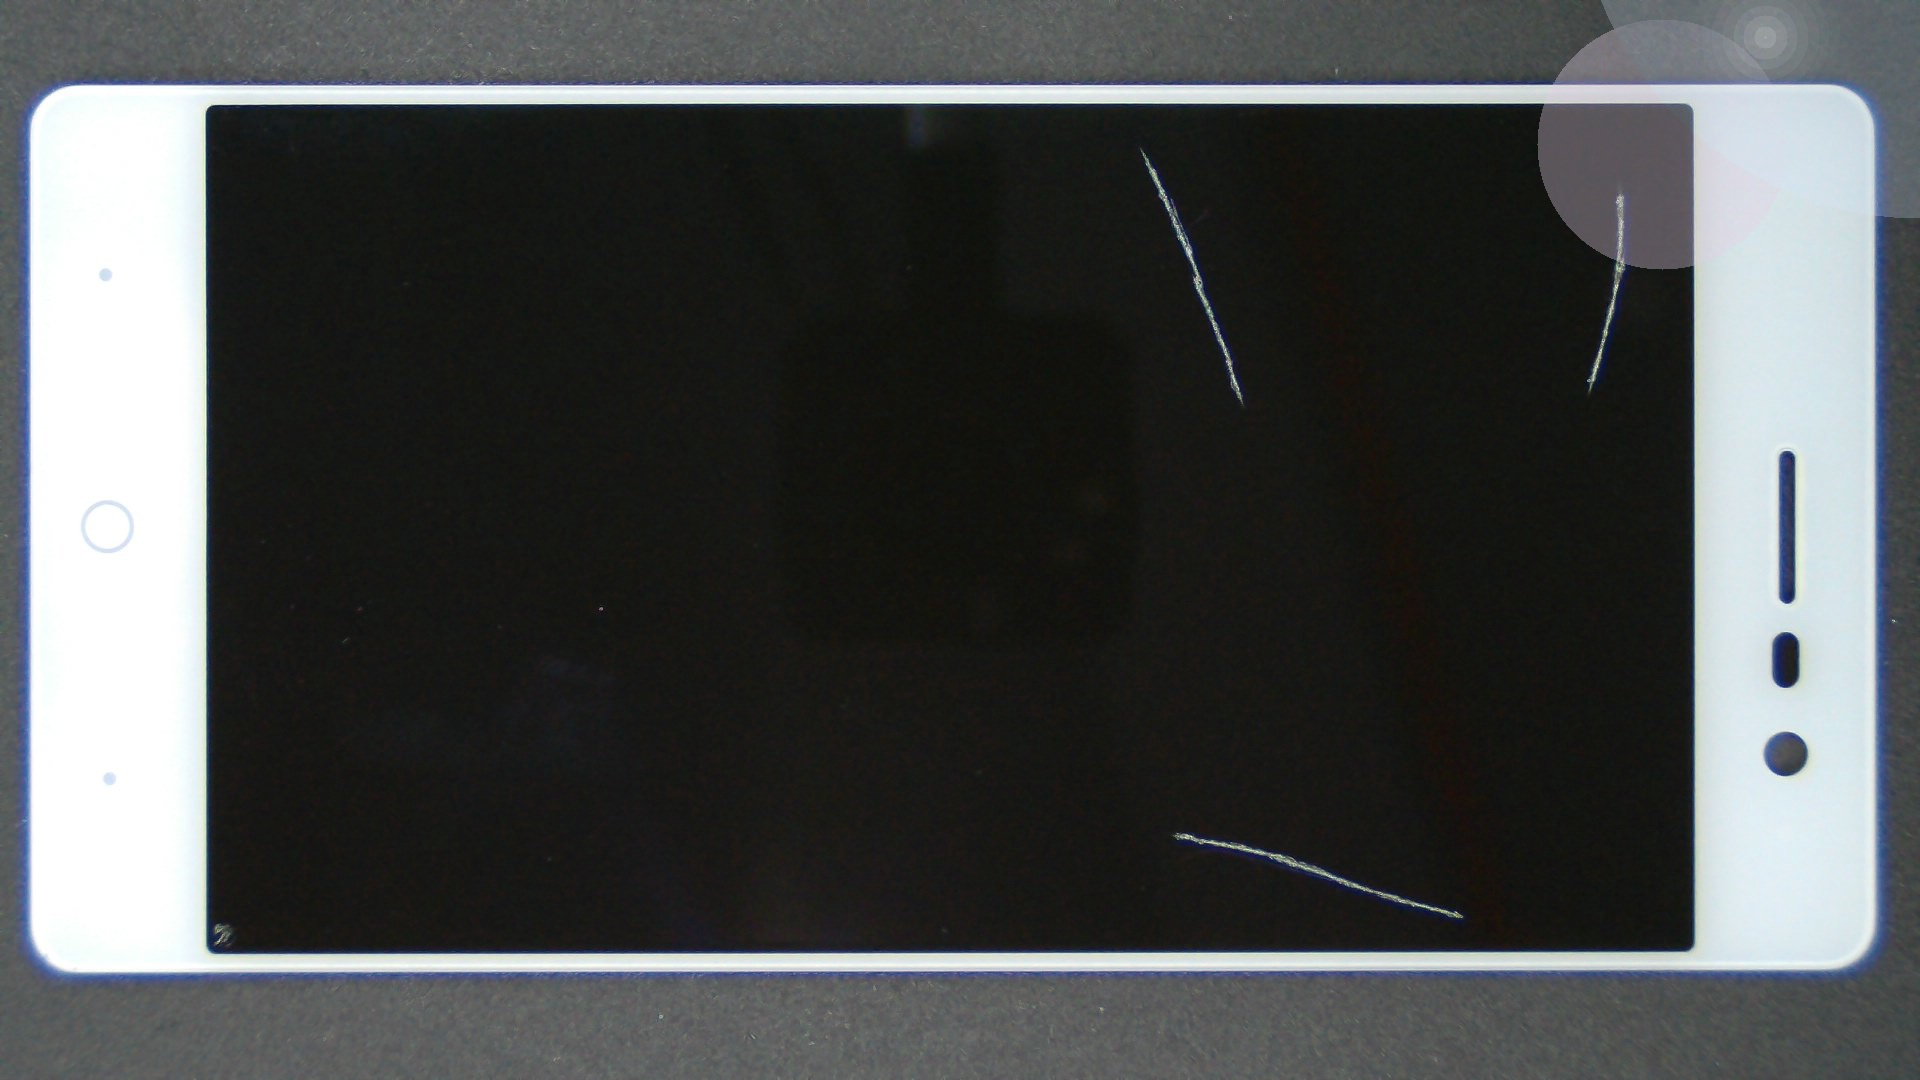oil: (588, 415, 1762, 1080), (811, 95, 1920, 289), (570, 74, 1709, 223), (109, 460, 324, 1080)
